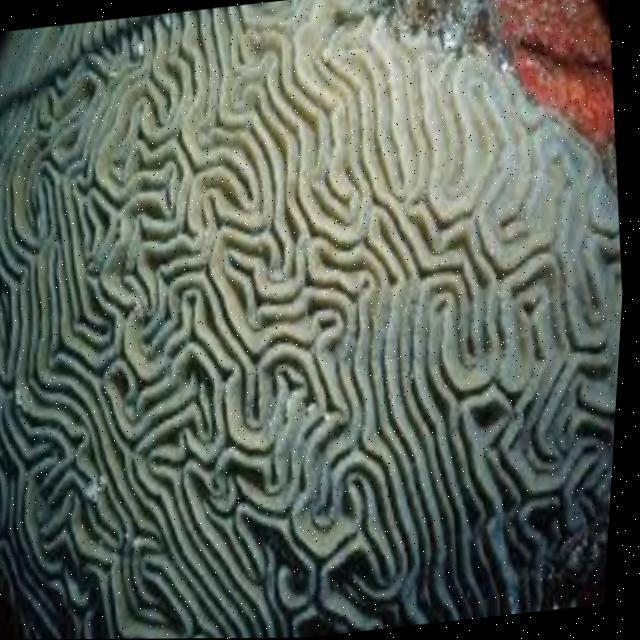Bleached Coral: (0, 9, 622, 573)
